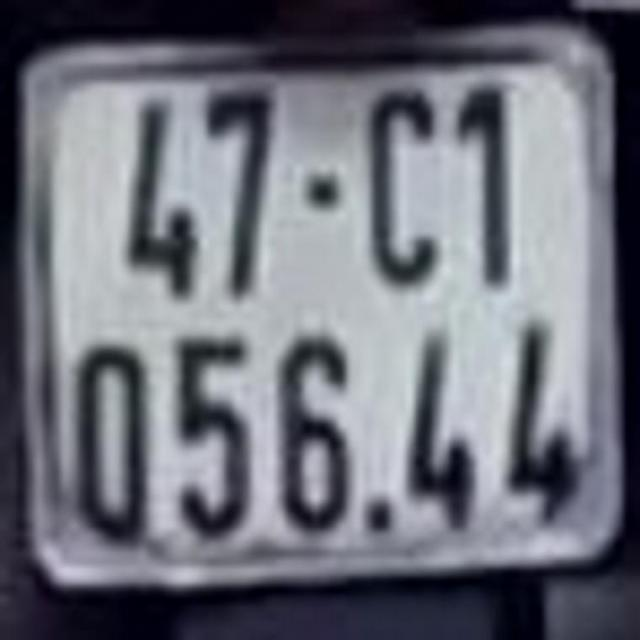0: (69, 340, 154, 540)
1: (460, 88, 519, 282)
4: (405, 337, 478, 530), (498, 329, 571, 521), (124, 103, 194, 300)
5: (174, 340, 256, 530)
6: (276, 336, 352, 524)
7: (196, 88, 282, 305)
C: (366, 92, 446, 292)
